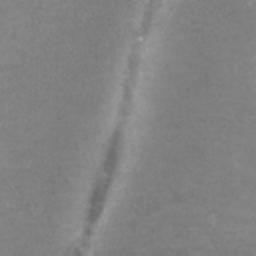Finishing roll printing: (83, 0, 160, 239), (76, 248, 82, 256)
